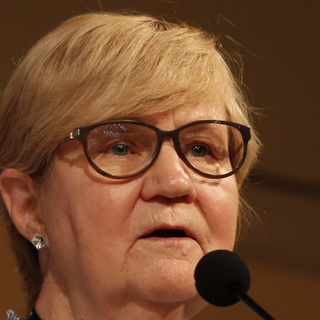eye: (184, 136, 222, 163), (100, 138, 143, 161)
